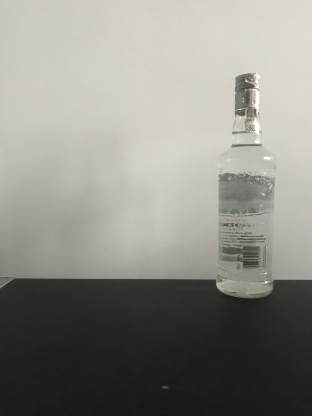nakretka: (233, 71, 261, 116)
